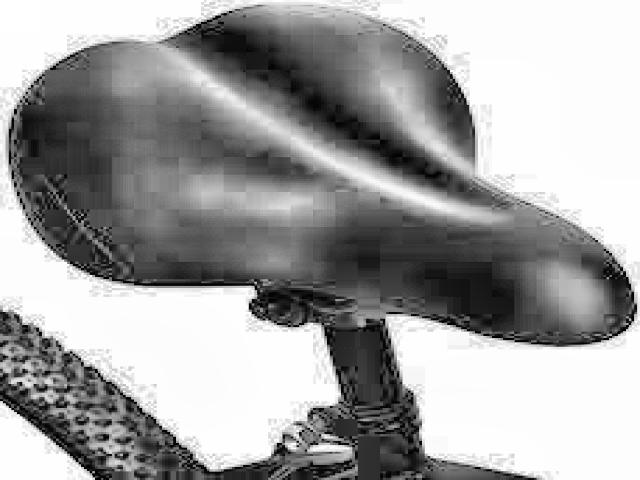saddle: (7, 2, 639, 346)
